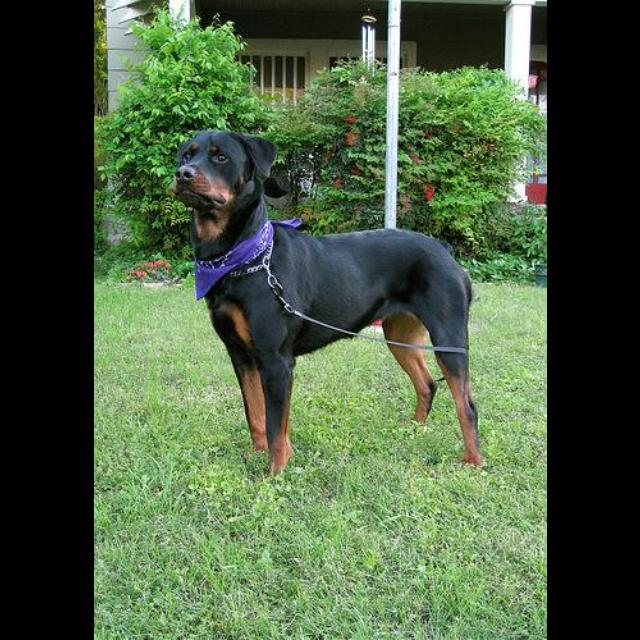rottweiler: (172, 129, 485, 479)
